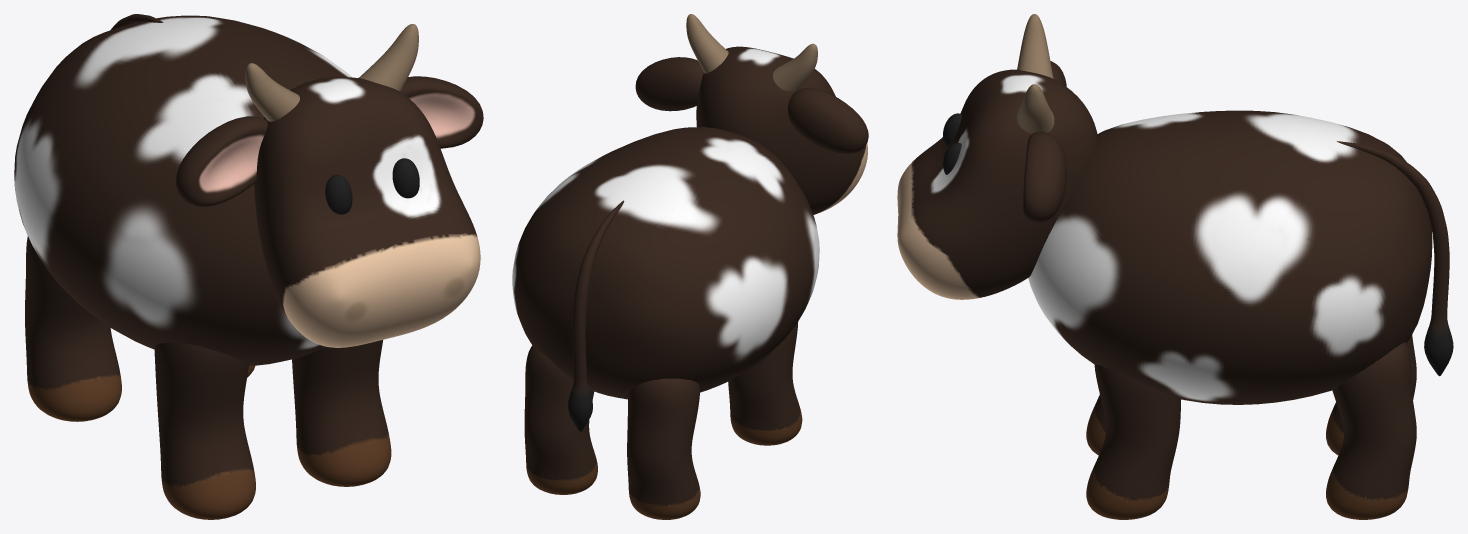
Rendered from Vaca2Final.glb.
3 views of the same model, side by side, from view 1: azimuth 30°, elevation 25°; view 2: azimuth 150°, elevation 25°; view 3: azimuth 270°, elevation 25° (orthographic). The views are drawn at different scales.
Visible parts, largest first — view 1: Roundcube.002, Roundcube.001, Cube.001, Cube.002, Cube, Cube.004, Cube.003; view 2: Roundcube.002, Cube.002, Roundcube.001, Cube, Cube.001, Vert.001, Cube.004; view 3: Roundcube.002, Roundcube.001, Cube.002, Cube.001, Vert.001, Cube, Cube.004, Cube.003.
Boxes of the visible parts, box(x1,y1,x2,y2) form: Roundcube.002: box(14, 15, 352, 365); Roundcube.001: box(254, 77, 480, 347); Cube.001: box(154, 340, 391, 519); Cube.002: box(25, 236, 255, 421); Cube: box(176, 76, 483, 206); Cube.004: box(245, 24, 418, 121); Cube.003: box(325, 158, 419, 214); Roundcube.002: box(512, 127, 819, 399); Cube.002: box(524, 345, 700, 519); Roundcube.001: box(696, 46, 867, 214); Cube: box(635, 57, 868, 154); Cube.001: box(728, 321, 802, 445); Vert.001: box(568, 200, 624, 431); Cube.004: box(686, 14, 817, 91); Roundcube.002: box(1028, 110, 1432, 404); Roundcube.001: box(897, 69, 1098, 299); Cube.002: box(1326, 334, 1416, 519); Cube.001: box(1086, 364, 1181, 519); Vert.001: box(1337, 141, 1453, 376); Cube: box(1023, 61, 1066, 223); Cube.004: box(1016, 14, 1054, 133); Cube.003: box(943, 113, 961, 174).
Bounding box in the file's own units: 0.6478 × 0.9196 × 1.07.
1 material, 1 textured.
